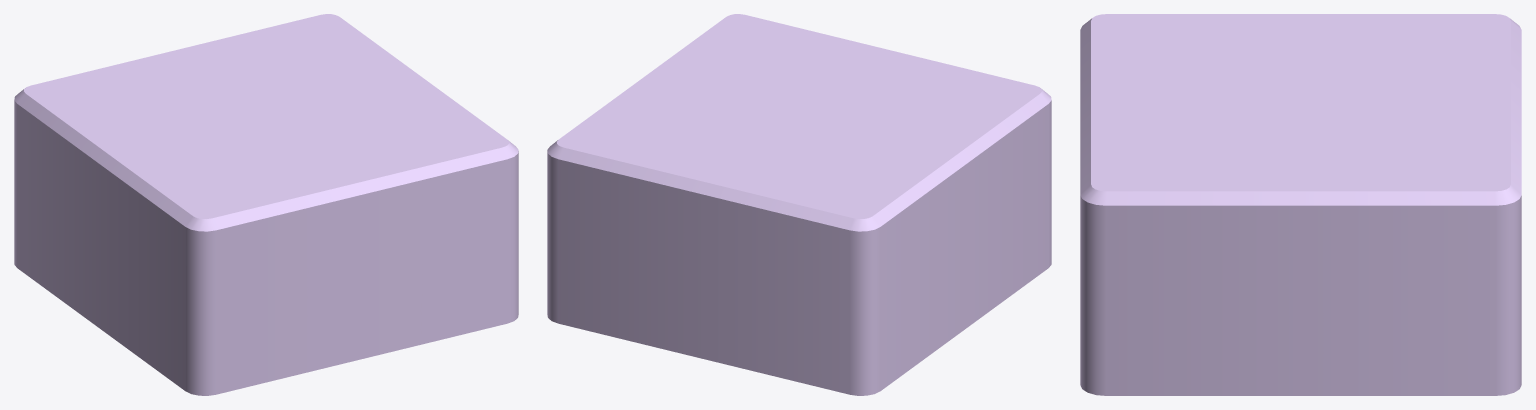
Rendered from M_GridCell.fbx.
3 views of the same model, side by side, from view 1: azimuth 30°, elevation 25°; view 2: azimuth 150°, elevation 25°; view 3: azimuth 270°, elevation 25° (orthographic). The views are drawn at different scales.
Visible parts, largest first — view 1: gridcell; view 2: gridcell; view 3: gridcell.
Boxes of the visible parts, x1=… form: gridcell: x1=14, y1=14, x2=518, y2=395; gridcell: x1=547, y1=14, x2=1051, y2=395; gridcell: x1=1080, y1=14, x2=1521, y2=395.
Bounding box in the file's own units: 0.99 × 0.495 × 0.99.
